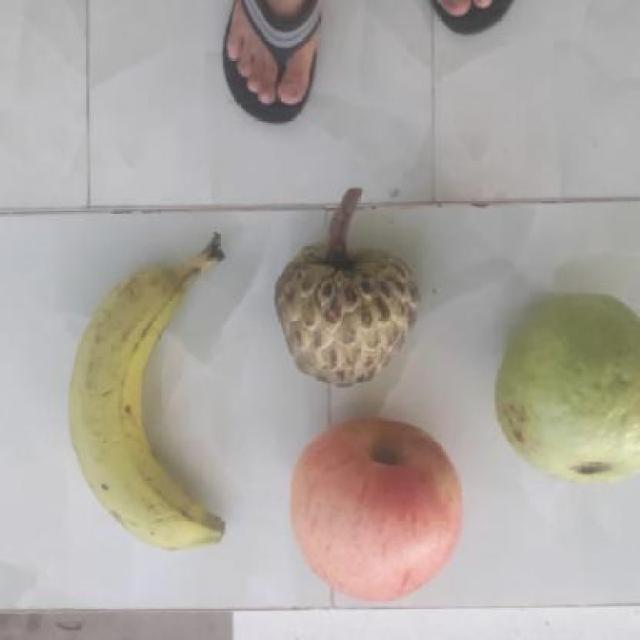apple: (285, 422, 473, 600)
banana: (73, 257, 232, 548)
guava: (500, 298, 638, 482)
sugar apple: (267, 234, 422, 397)
